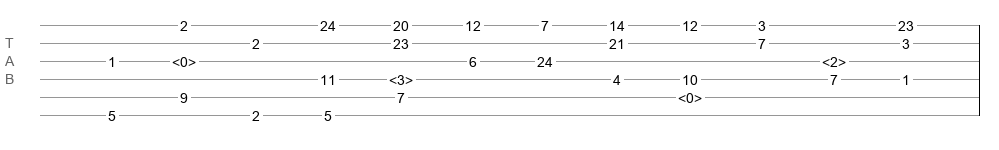1: (108, 54, 116, 64), (902, 72, 910, 82)
10: (682, 72, 698, 82)
11: (320, 72, 336, 82)
12: (465, 18, 481, 28), (682, 18, 698, 28)
14: (609, 18, 625, 28)
2: (180, 18, 188, 28), (252, 108, 260, 118), (252, 36, 260, 46)
20: (393, 18, 409, 28)
21: (609, 36, 625, 46)
23: (393, 36, 409, 46), (898, 18, 914, 28)
24: (320, 18, 336, 28), (537, 54, 553, 64)
3: (758, 18, 766, 28), (902, 36, 910, 46)
4: (613, 72, 621, 82)
5: (108, 108, 116, 118), (324, 108, 332, 118)
6: (469, 54, 477, 64)
7: (397, 90, 405, 100), (541, 18, 549, 28), (758, 36, 766, 46), (830, 72, 838, 82)
9: (180, 90, 188, 100)
harmonic: (172, 54, 196, 64), (389, 72, 413, 82), (678, 90, 702, 100), (822, 54, 846, 64)
